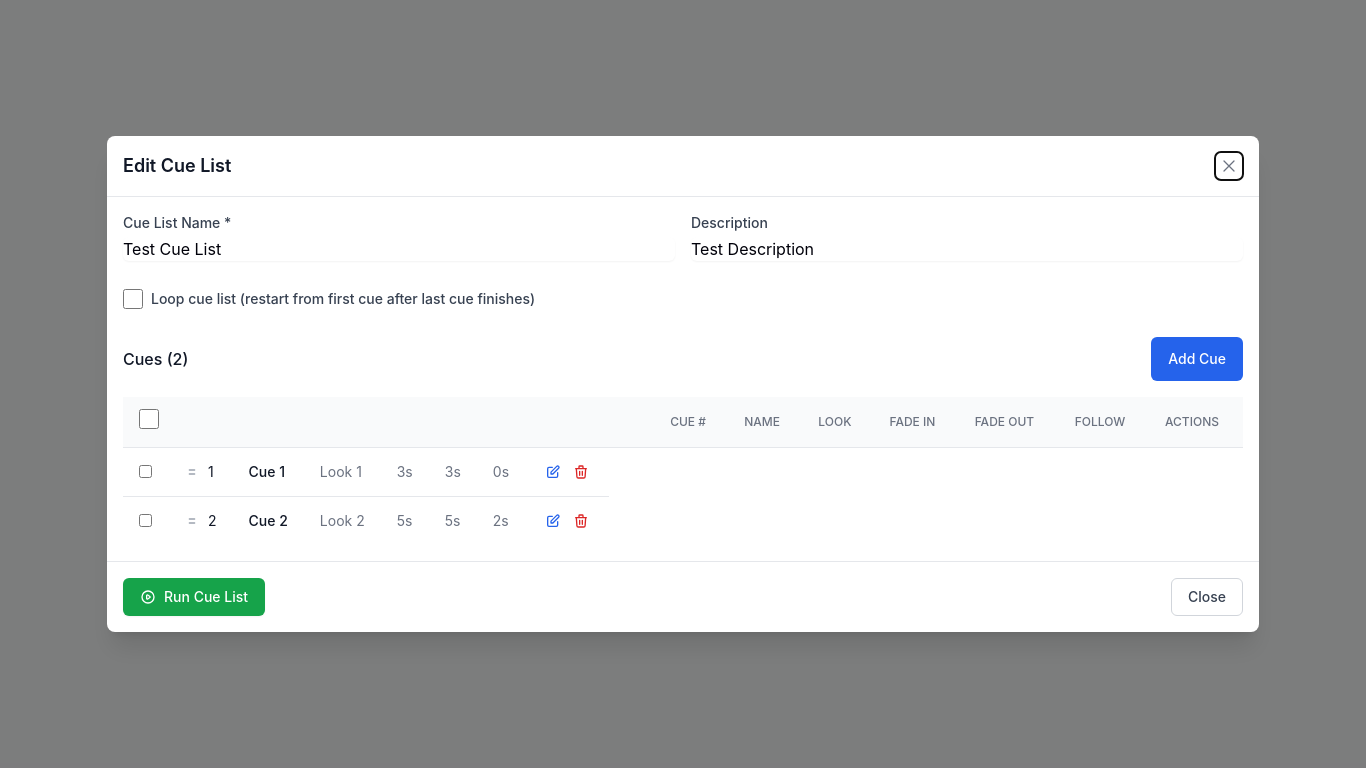
Test: CueListEditorModal › cue editing › cancels editing when cancel button clicked
This screenshot has width=1366, height=768.
Expected: the text "Cue 1" is shown, x1=232 y1=448 x2=304 y2=496
Click the button titled "Edit cue" in the row of "Cue 1": (553, 472) x1=541 y1=460 x2=565 y2=484
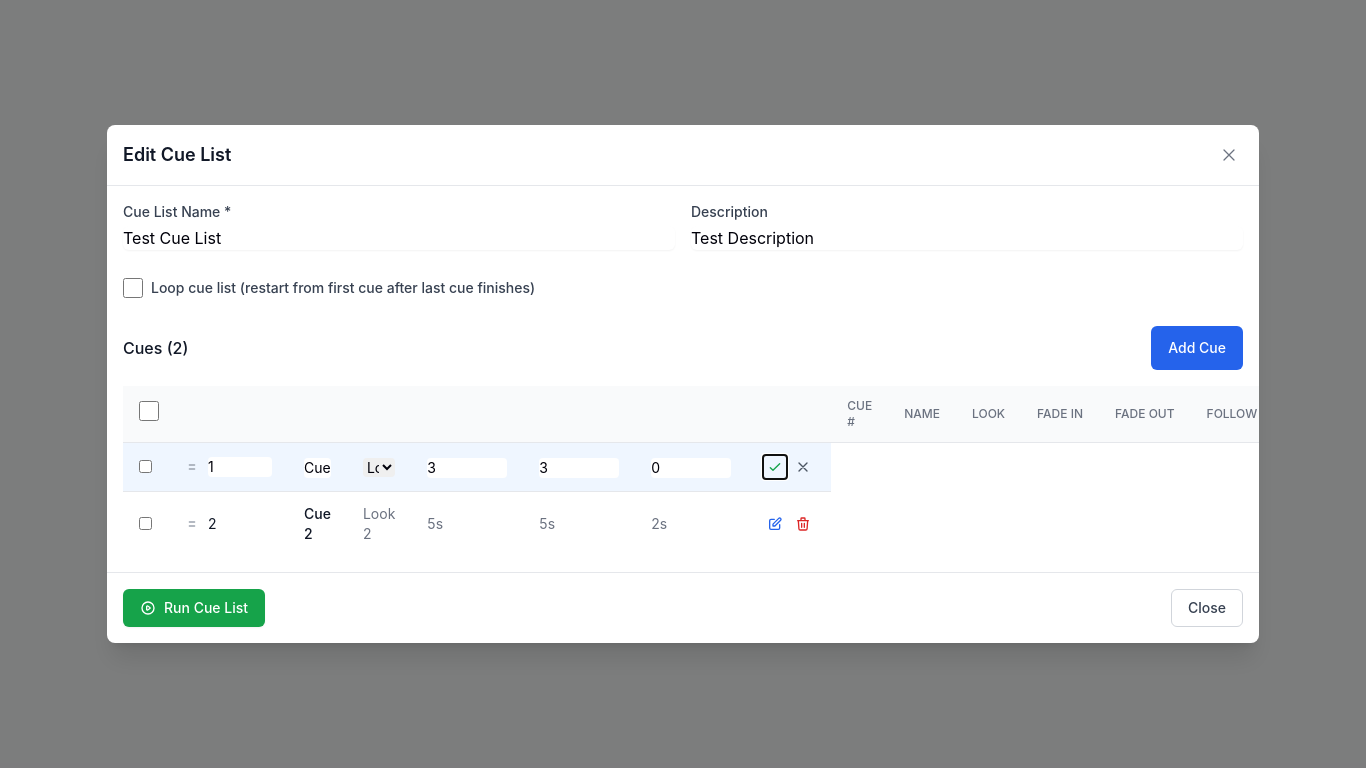
Replace the text in the field showing "Cue 1" with "Changed Name": (317, 468) x1=304 y1=458 x2=331 y2=478
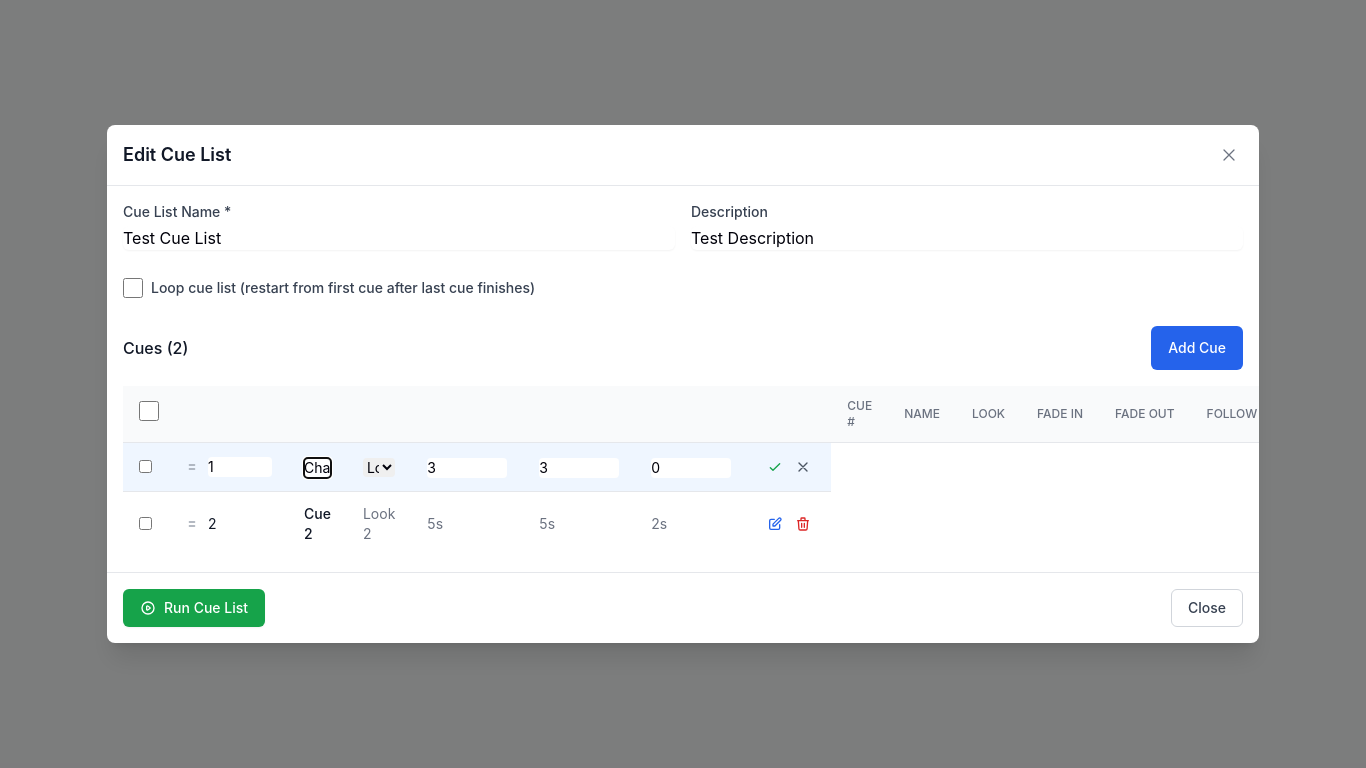
Click the button titled "Cancel": (803, 467) x1=791 y1=455 x2=815 y2=479
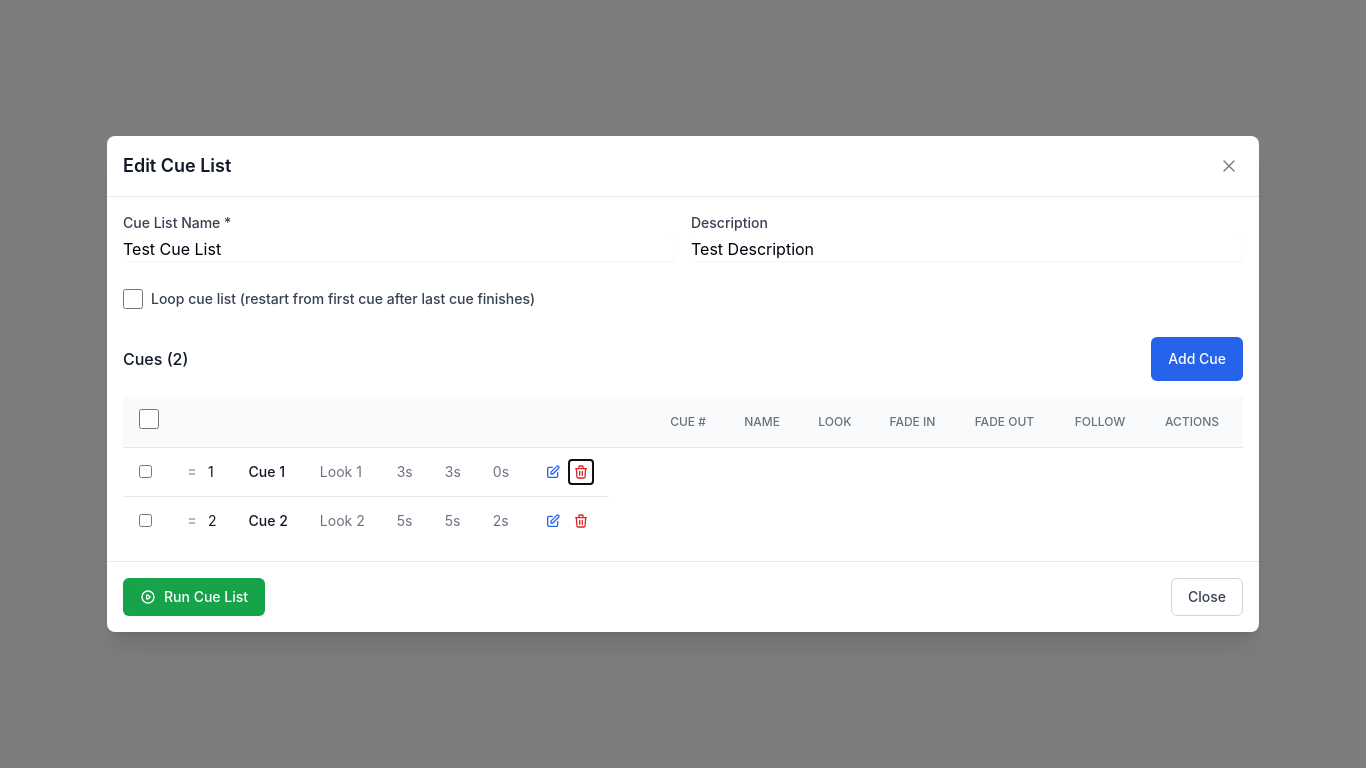
Expected: the field showing "Changed Name" is not shown
Expected: the text "Cue 1" is shown, x1=232 y1=448 x2=304 y2=496
